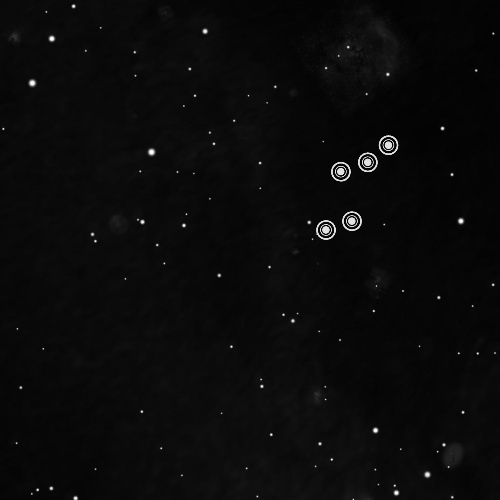lyra: (307, 122, 404, 250)
